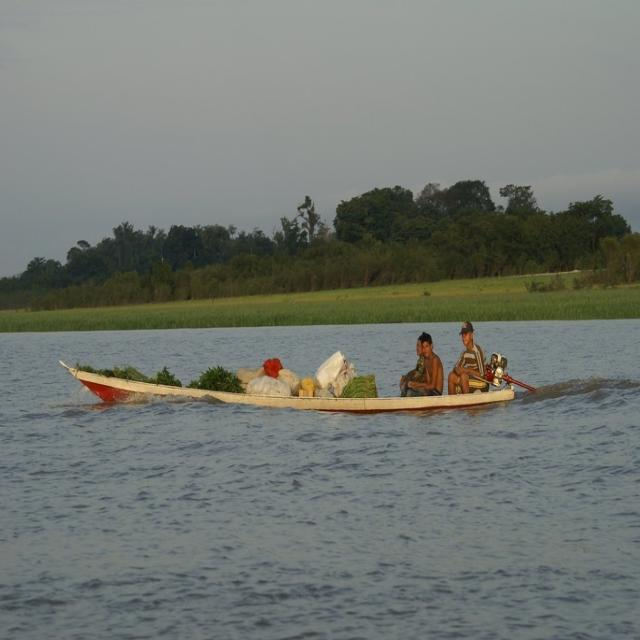boat: (53, 358, 554, 412)
